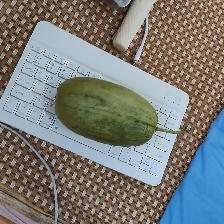gua: (60, 76, 183, 149)
